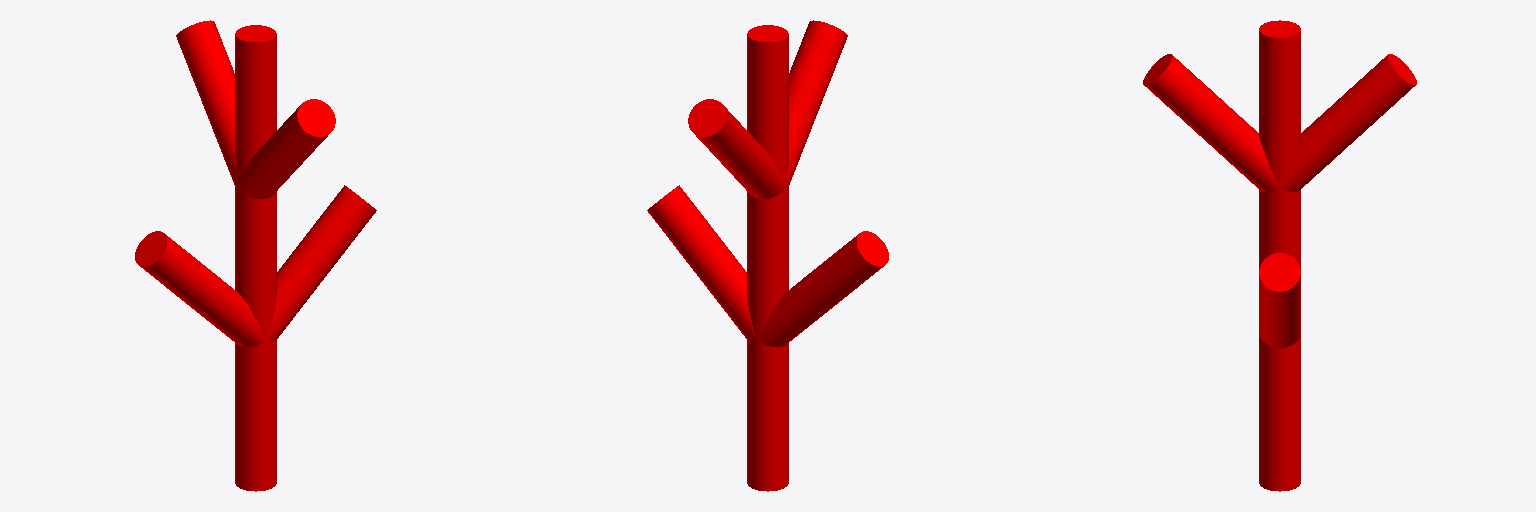
URDF robot description (tree.urdf):
<?xml version="1.0" ?>
<robot name="tree.urdf">
  <link name="baseLink">
    <inertial>
      <origin rpy="0 0 0" xyz="0 0 0"/>
       <mass value=".1"/>
       <inertia ixx="1" ixy="0" ixz="0" iyy="1" iyz="0" izz="1"/>
    </inertial>
    <visual>
      <origin rpy="0 0 0" xyz="0 0 0"/>
      <geometry>
        <mesh filename="15.stl" scale="1 1 1" />
      </geometry>
      <material name="red">
        <color rgba="1 0 0 1"/>
      </material>
    </visual>
    <collision>
      <origin rpy="0 0 0" xyz="0 0 0"/>
      <geometry>
        <mesh filename="15_convex.obj" scale="1 1 1" />
      </geometry>
    </collision>
  </link>
</robot>

--- Facts derived from the render (not from the file) ---
Views: 3 orthographic renders of the robot side by side, from view 1: azimuth 30°, elevation 25°; view 2: azimuth 150°, elevation 25°; view 3: azimuth 270°, elevation 25°.
Model tree.urdf with 1 links and 0 joints (none), rooted at baseLink, posed every joint at zero.
Links seen in each view (by area): view 1: baseLink; view 2: baseLink; view 3: baseLink.
Link boxes in pixels (x1,y1,x2,y2): baseLink: (135,20,376,491); baseLink: (647,20,888,491); baseLink: (1143,20,1416,491).
Size in the robot's own frame: 0.2225 by 0.2225 by 0.4064 metres.
Meshes: 1 distinct files referenced, 1 mesh visuals loaded (1 binary STL).